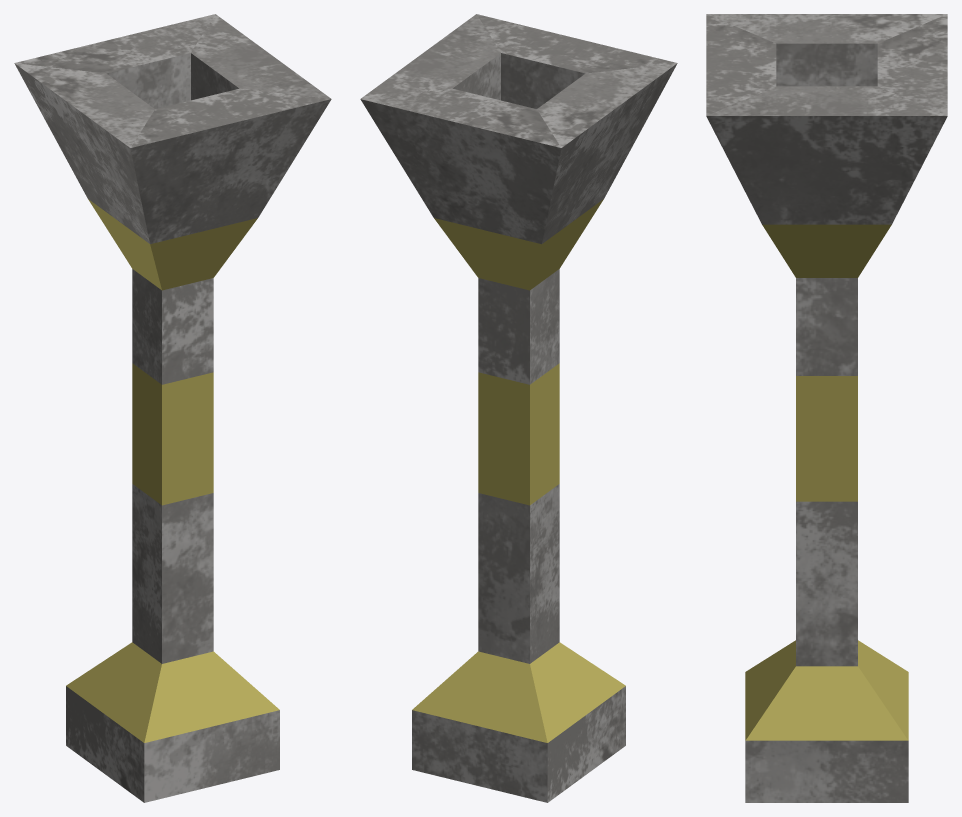
File: Torch.glb
The picture shows the model from 3 angles, left to right: view 1: azimuth 30°, elevation 25°; view 2: azimuth 150°, elevation 25°; view 3: azimuth 270°, elevation 25°; orthographic projection. The views are drawn at different scales.
Parts seen in each view (by area): view 1: Plane; view 2: Plane; view 3: Plane.
Boxes of the visible parts, left/top/right/bottom form: Plane: left=14, top=14, right=331, bottom=802; Plane: left=360, top=14, right=677, bottom=802; Plane: left=706, top=14, right=947, bottom=802.
Size of the model in its own units: 2.96 by 9.52 by 2.96.
2 materials, 1 textured.
